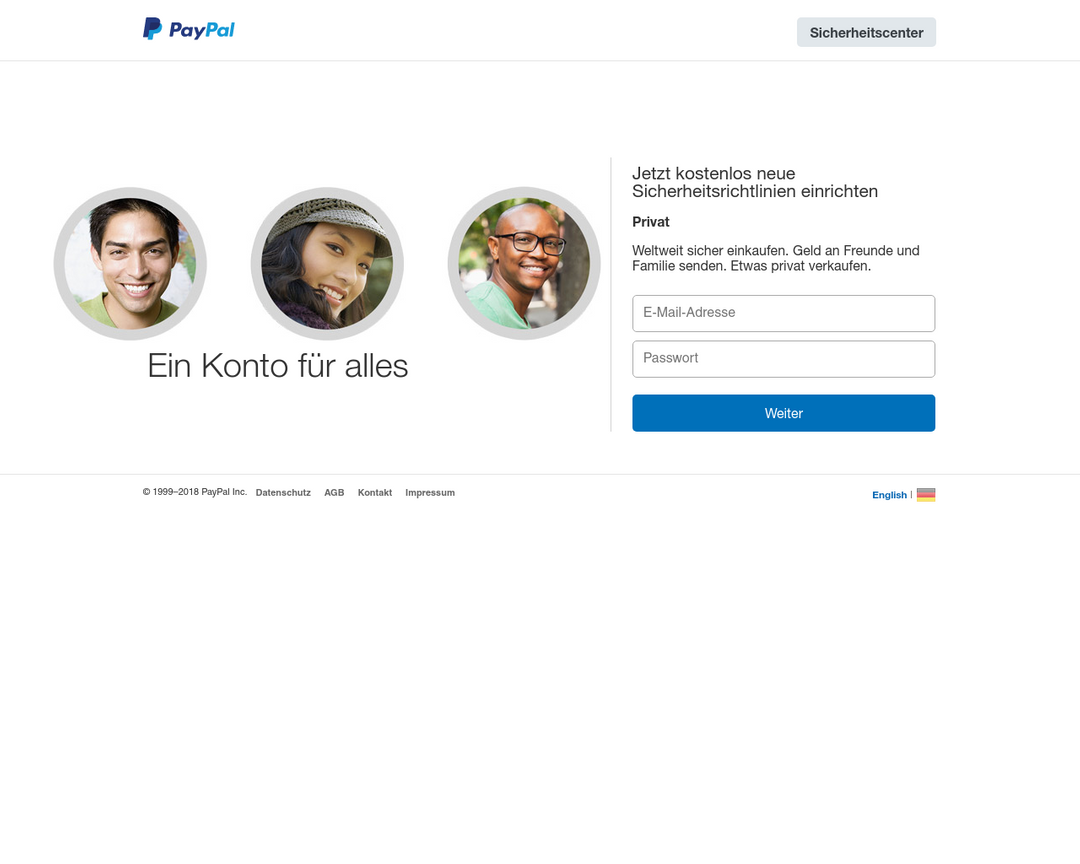Paypal: (50, 8, 174, 48)
